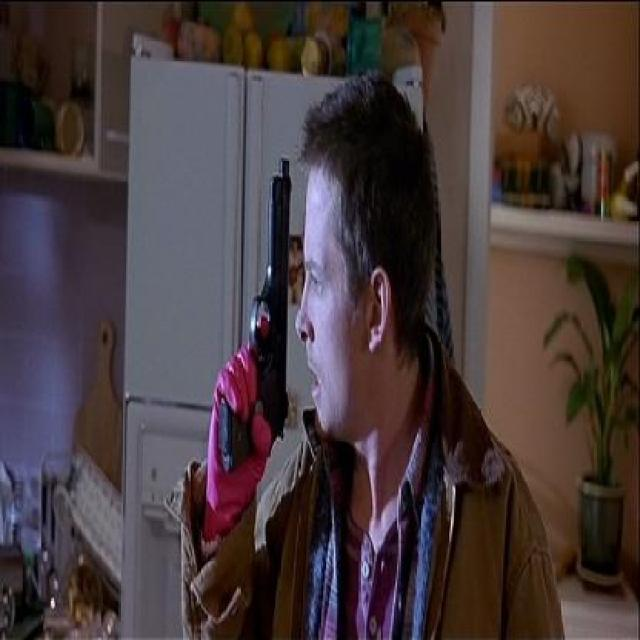gun: (206, 112, 312, 563)
